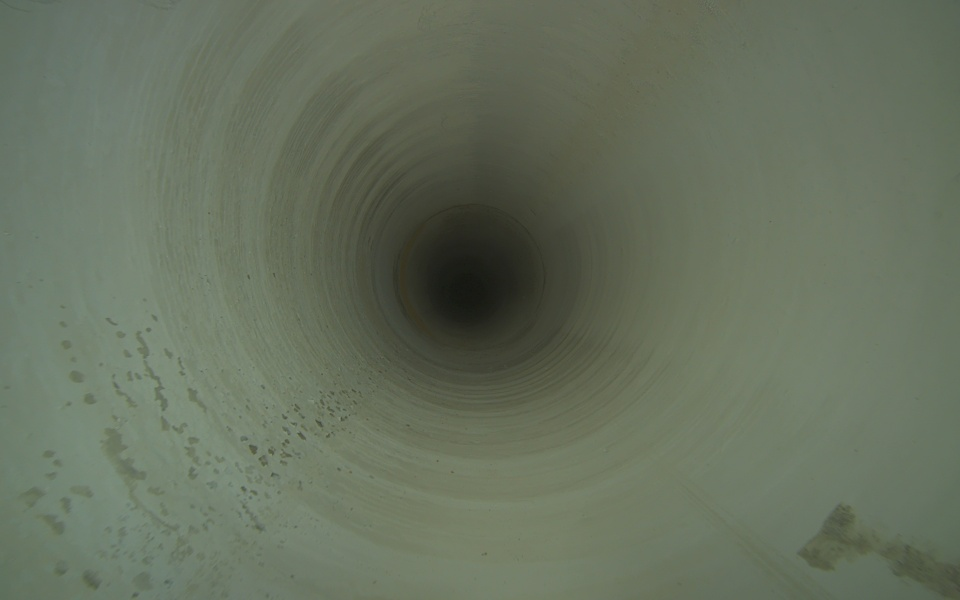circle1: (396, 203, 547, 354)
circle2: (438, 270, 491, 317)
